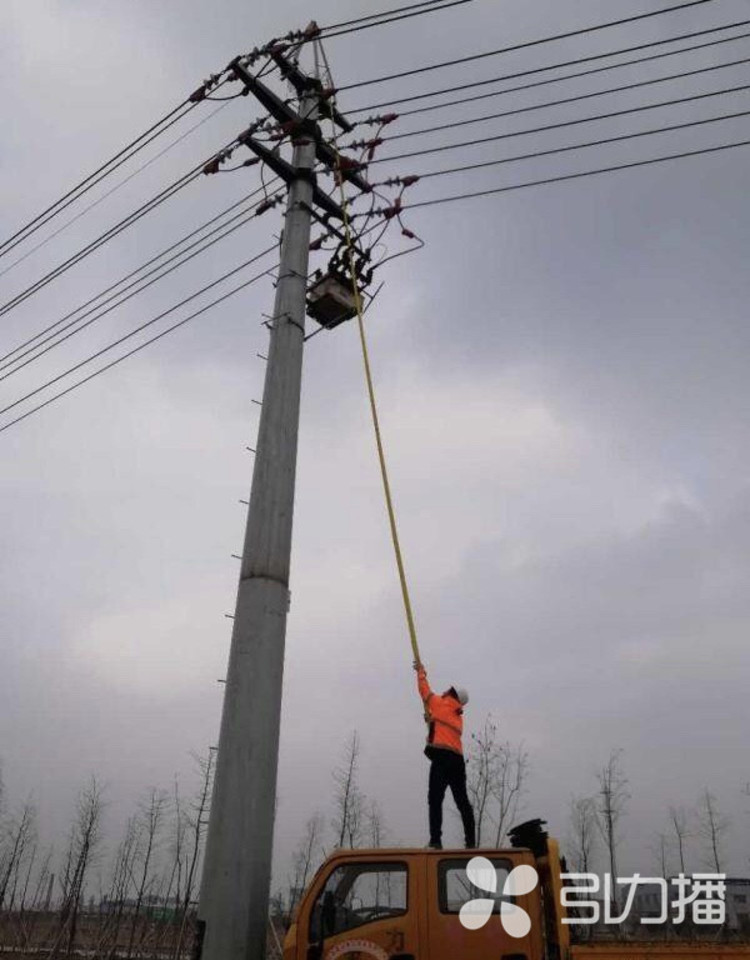bird-nest: (286, 76, 333, 98)
